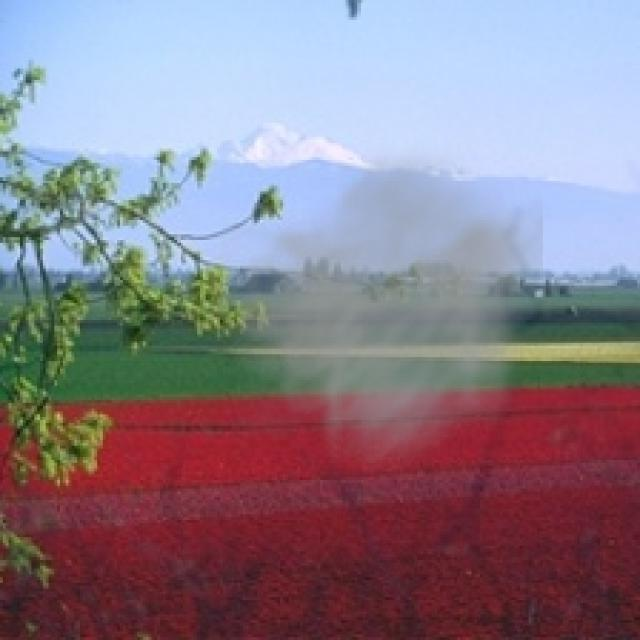smoke: (197, 137, 543, 483)
